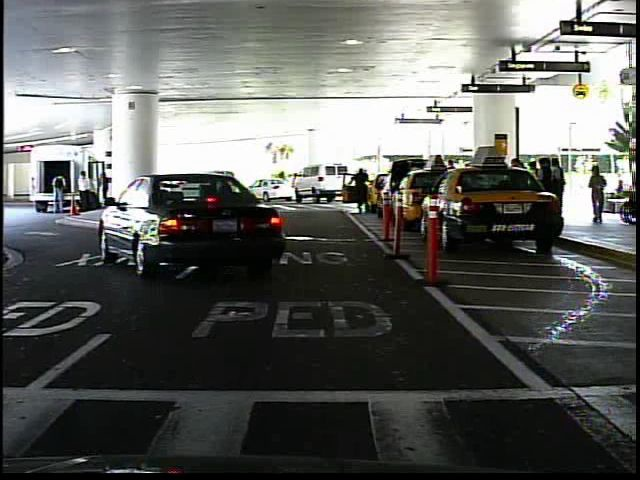person: (590, 162, 610, 227), (351, 165, 375, 218)
